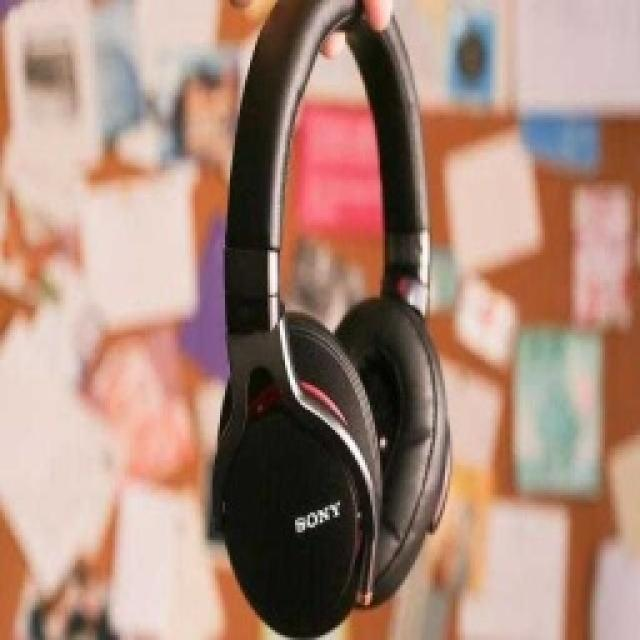headphones: (205, 0, 453, 638)
